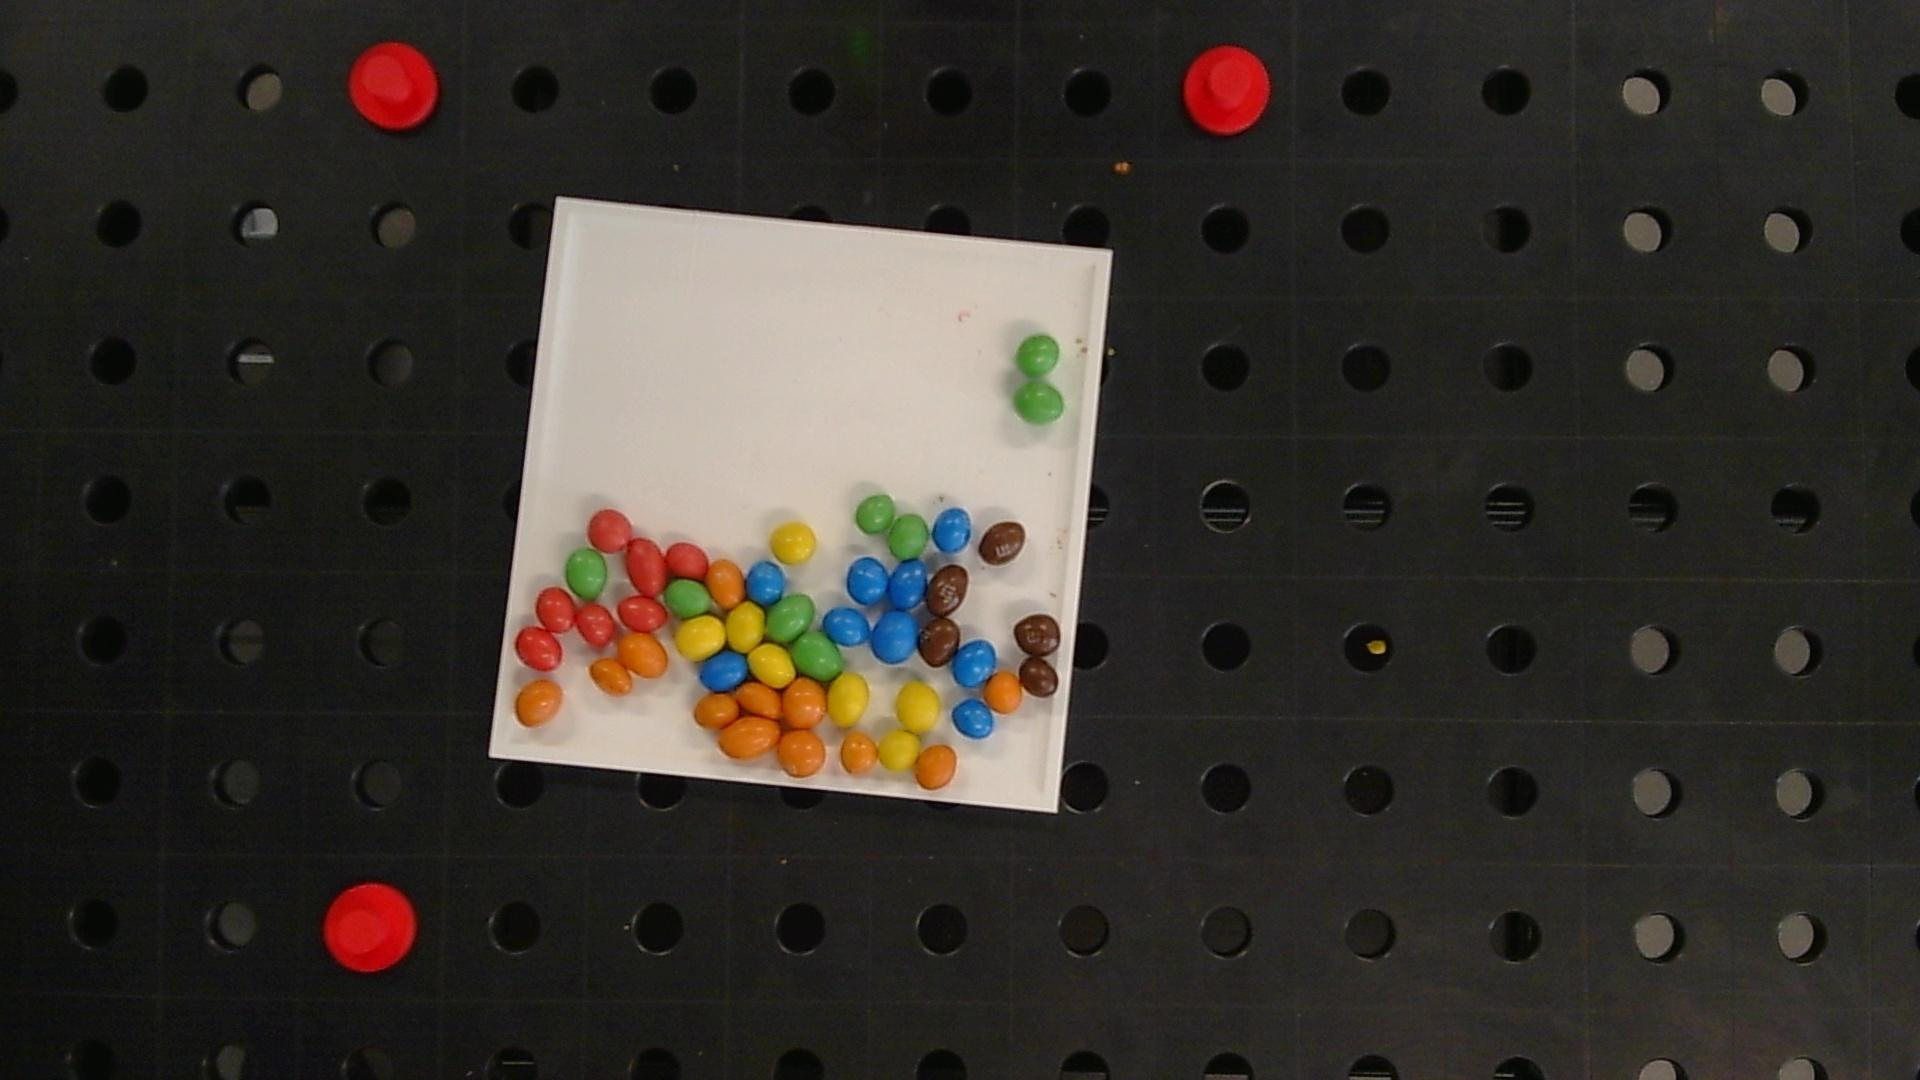blue: (870, 612, 919, 663), (951, 640, 997, 687), (847, 556, 887, 605), (700, 651, 748, 692), (889, 560, 927, 611), (823, 608, 870, 646), (932, 508, 972, 553), (952, 699, 994, 738), (746, 562, 785, 603)
brown: (978, 521, 1026, 564), (927, 566, 968, 616), (919, 618, 961, 666), (1014, 615, 1060, 657), (1018, 658, 1059, 698)
green: (1013, 381, 1065, 425), (794, 633, 843, 679), (766, 595, 814, 641), (564, 549, 607, 599), (1015, 334, 1060, 377), (887, 513, 928, 558), (666, 579, 711, 616), (856, 495, 895, 533)
orange: (719, 716, 781, 758), (777, 731, 825, 777), (618, 633, 667, 678), (514, 680, 563, 725), (914, 742, 957, 790), (783, 679, 825, 727), (708, 559, 745, 607), (984, 671, 1022, 713), (589, 658, 633, 695), (736, 682, 781, 717), (840, 735, 878, 774), (695, 694, 738, 728)
red: (626, 538, 666, 595), (514, 628, 562, 670), (587, 509, 633, 551), (574, 604, 615, 646), (535, 588, 574, 632), (618, 596, 666, 630), (667, 542, 709, 579)
yellow: (675, 615, 725, 661), (895, 683, 940, 732), (828, 674, 868, 727), (770, 522, 818, 563), (750, 645, 795, 686), (728, 603, 765, 651), (878, 731, 920, 770)
